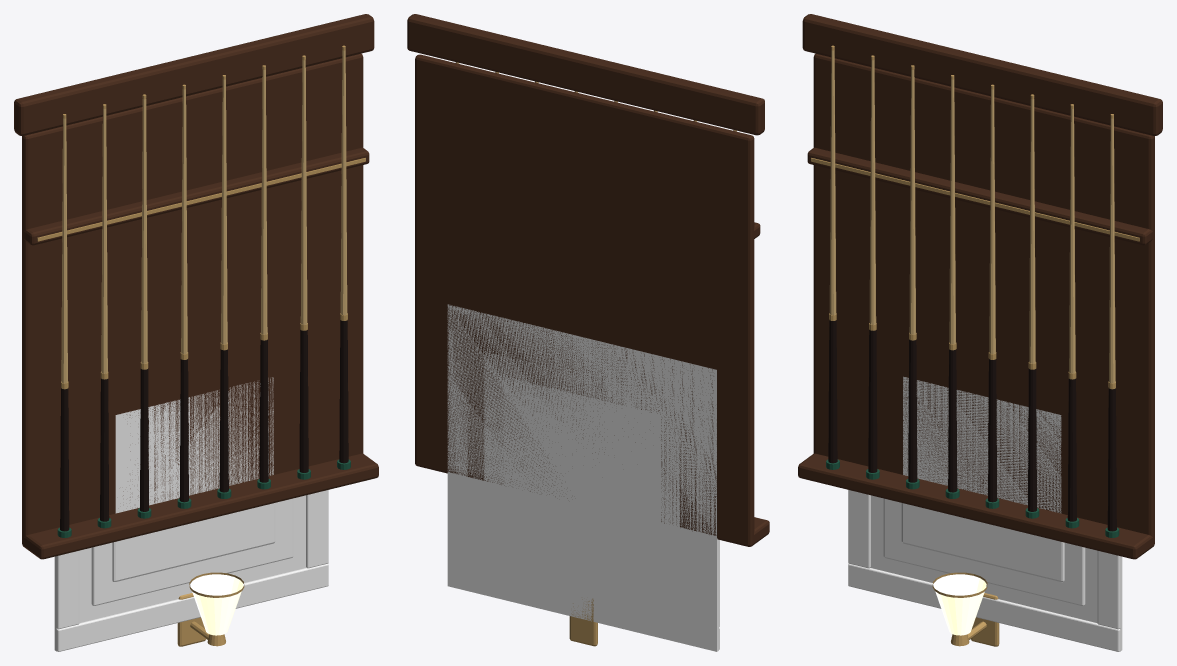
File: finiture.glb
3 views of the same model, side by side, from view 1: azimuth 30°, elevation 25°; view 2: azimuth 150°, elevation 25°; view 3: azimuth 330°, elevation 25° (orthographic).
Parts seen in each view (by area): view 1: rastrelliera, boiserie_pannello, applique; view 2: rastrelliera, boiserie_pannello, applique; view 3: rastrelliera, boiserie_pannello, applique.
Boxes of the visible parts, box(x1,y1,x2,y2) form: rastrelliera: box(14, 14, 378, 559); boiserie_pannello: box(54, 377, 328, 651); applique: box(177, 572, 244, 646); rastrelliera: box(407, 14, 769, 546); boiserie_pannello: box(447, 304, 719, 651); applique: box(569, 598, 597, 646); rastrelliera: box(798, 14, 1162, 559); boiserie_pannello: box(848, 376, 1122, 651); applique: box(932, 572, 999, 646).
Bounding box in the file's own units: 1.31 × 2.07 × 0.258.
